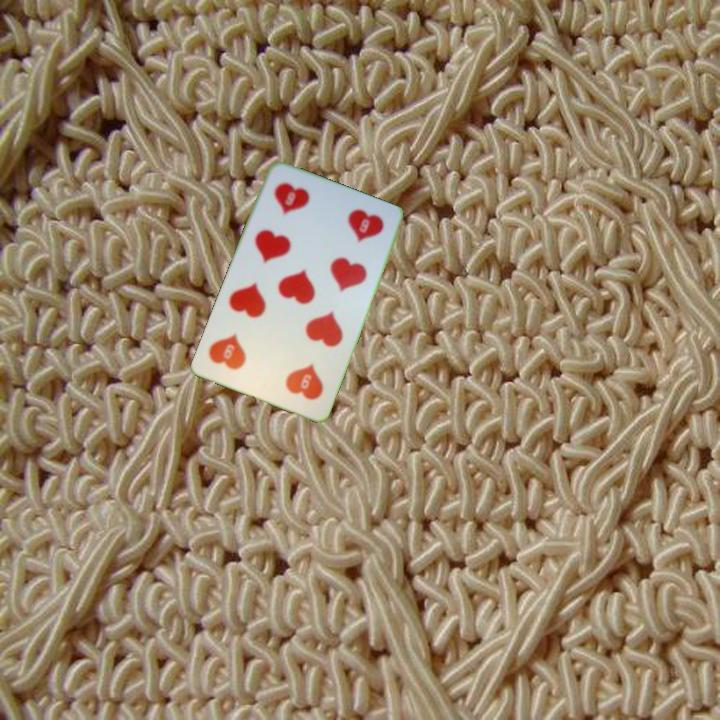h_9.png: (258, 335, 340, 412), (257, 170, 338, 247)
